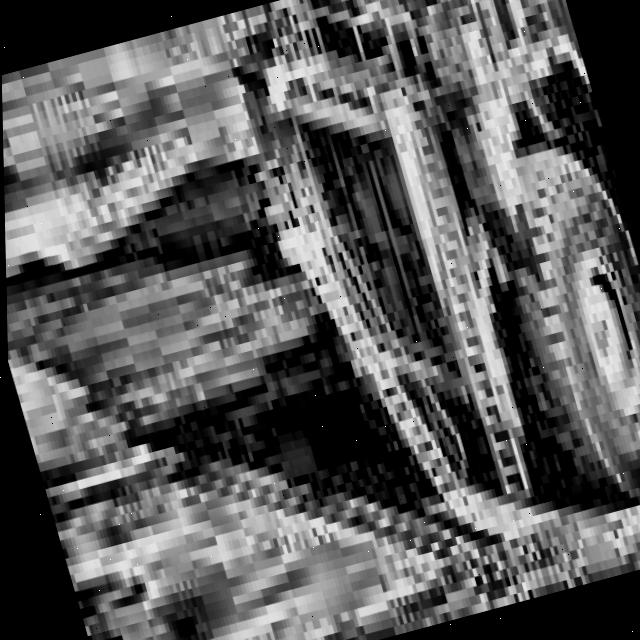dump_truck: (180, 0, 640, 567)
